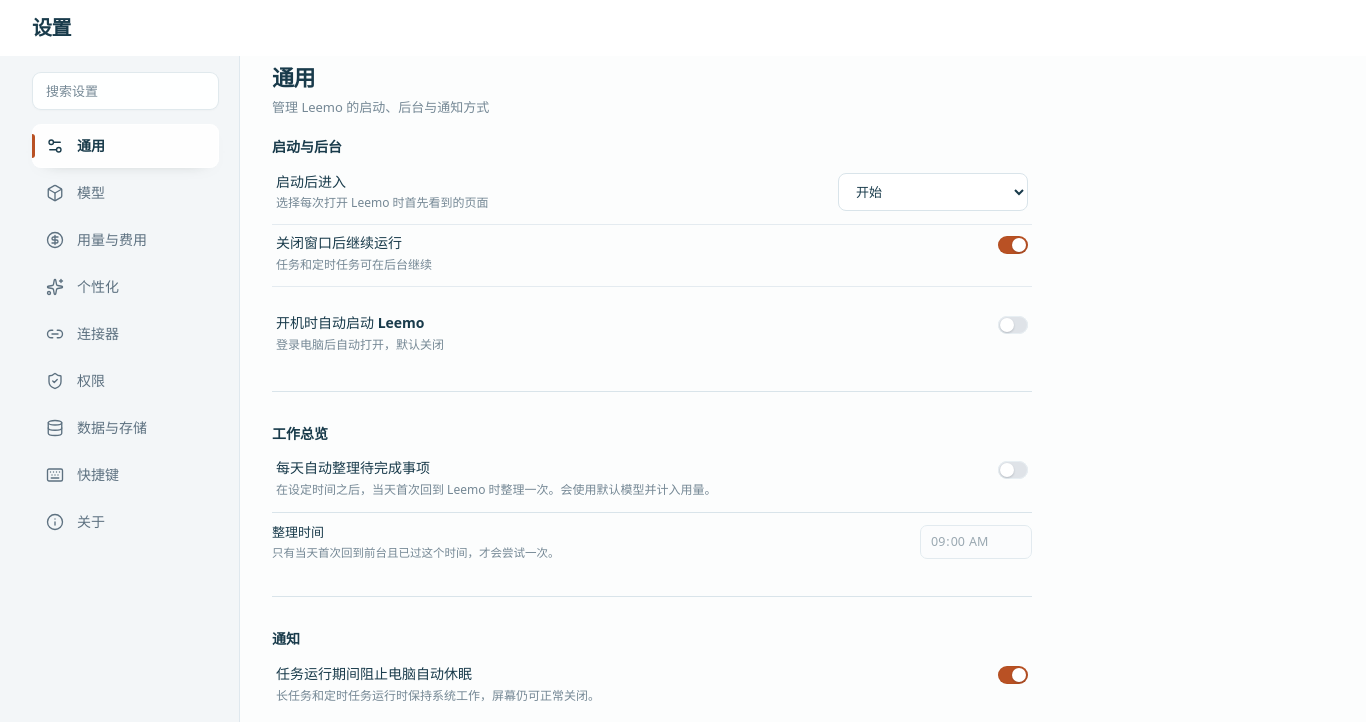
Test: SettingsPage › searches settings categories and opens the matching page
Step 1. Type "浏览器" into the search field with placeholder "搜索设置" → point(126, 91), box [32,72,219,110]
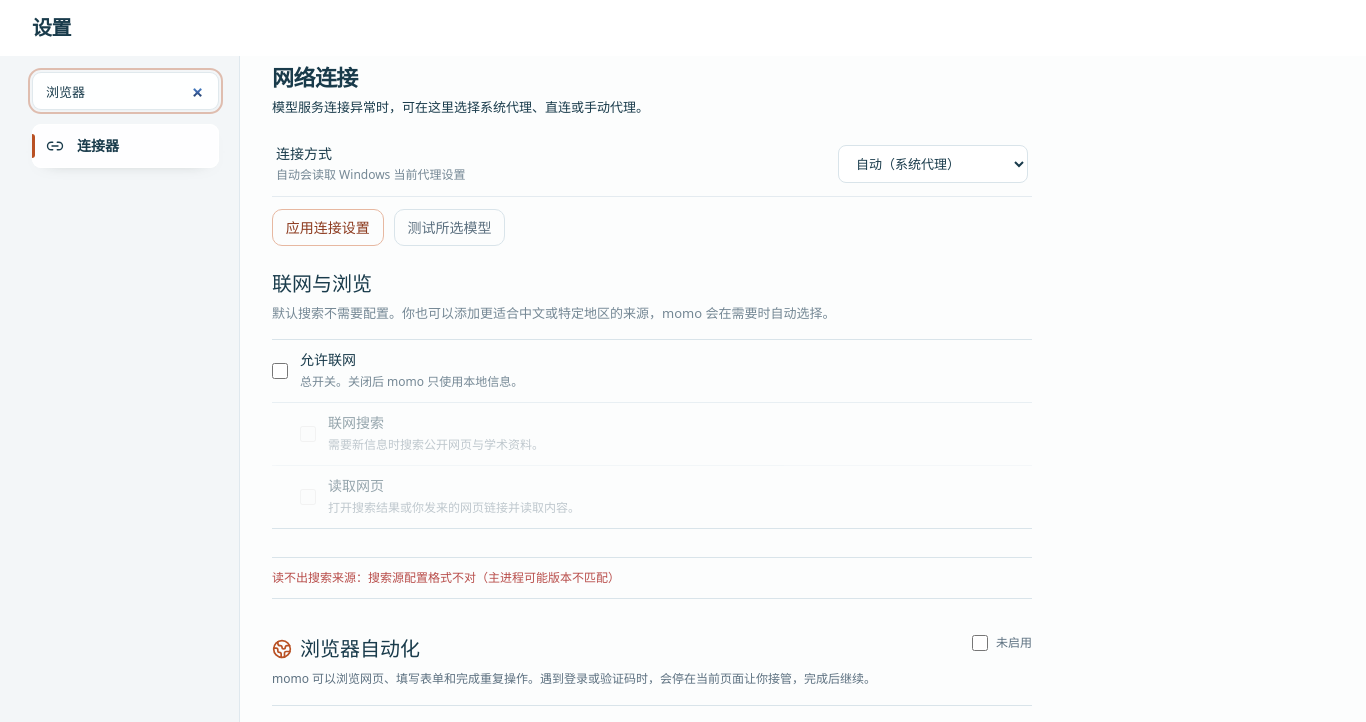
Expected: the heading "浏览器自动化" is shown, [300,635,420,663]
